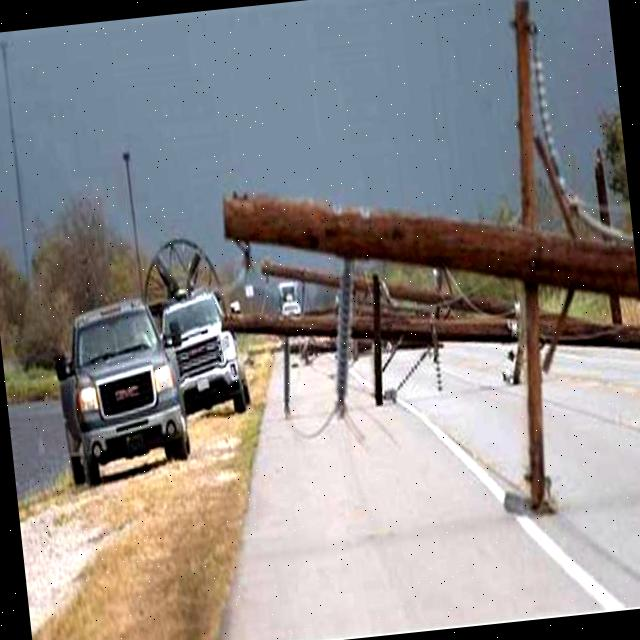Broken Pole: (206, 0, 640, 555)
